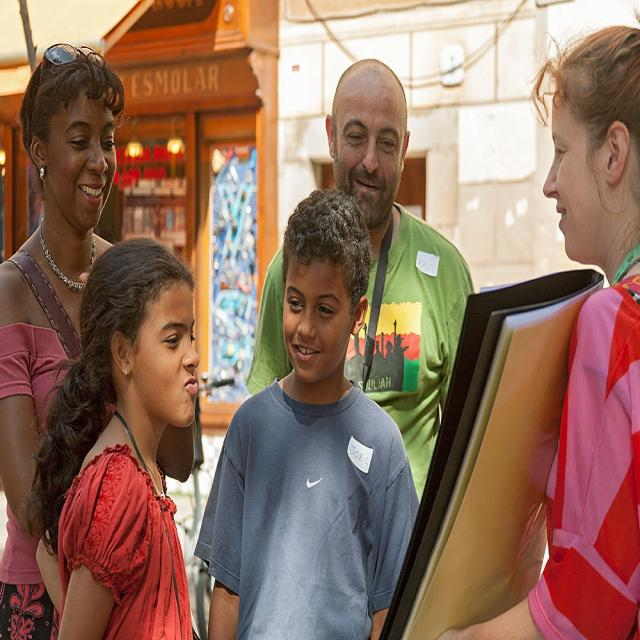body: (439, 25, 640, 640), (0, 39, 205, 639), (243, 55, 478, 508), (202, 183, 426, 639), (30, 232, 205, 639)
